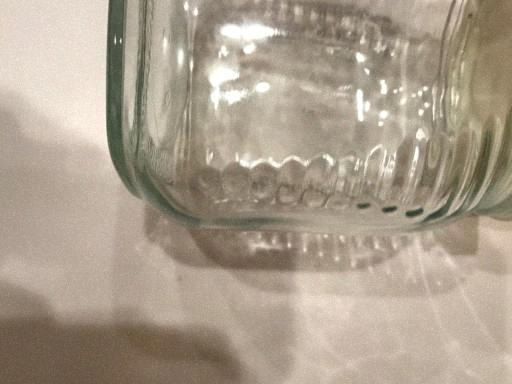glass: (108, 3, 510, 235)
